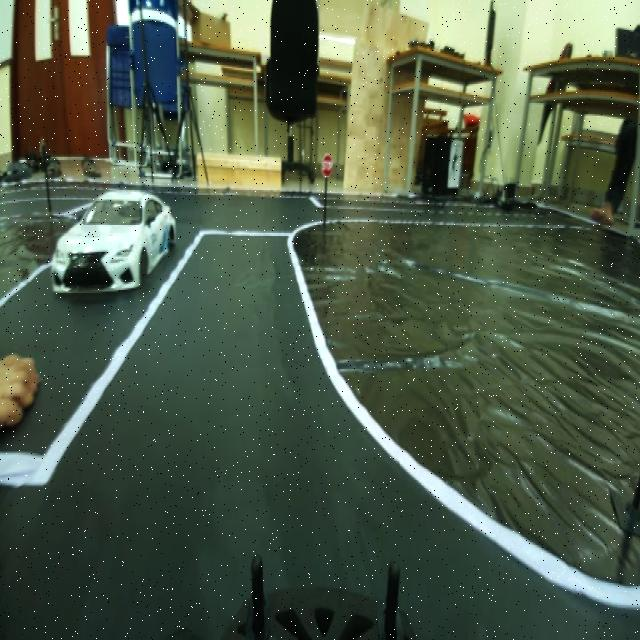car: (54, 178, 160, 302)
stop: (319, 145, 337, 181)
